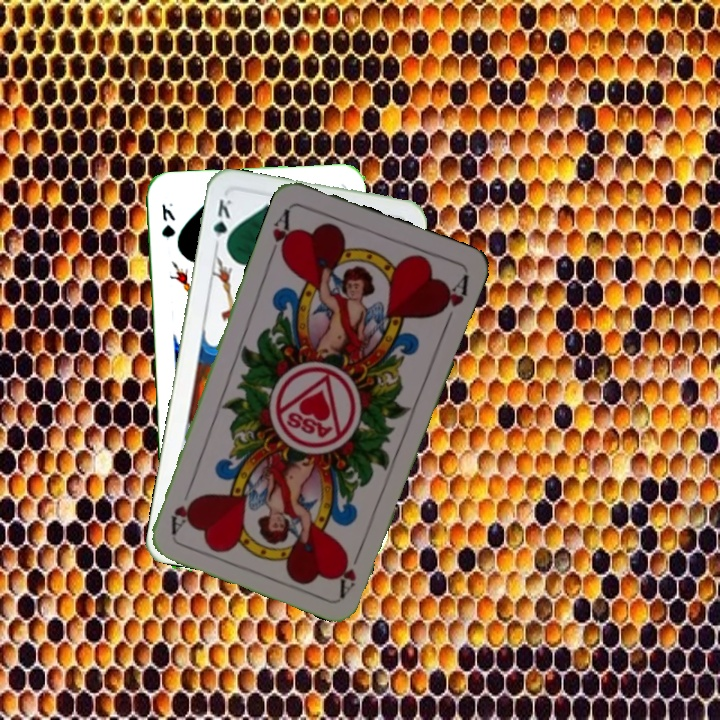GK: (209, 195, 234, 253), (157, 198, 177, 241)
HA: (265, 204, 297, 262), (335, 541, 366, 599)
